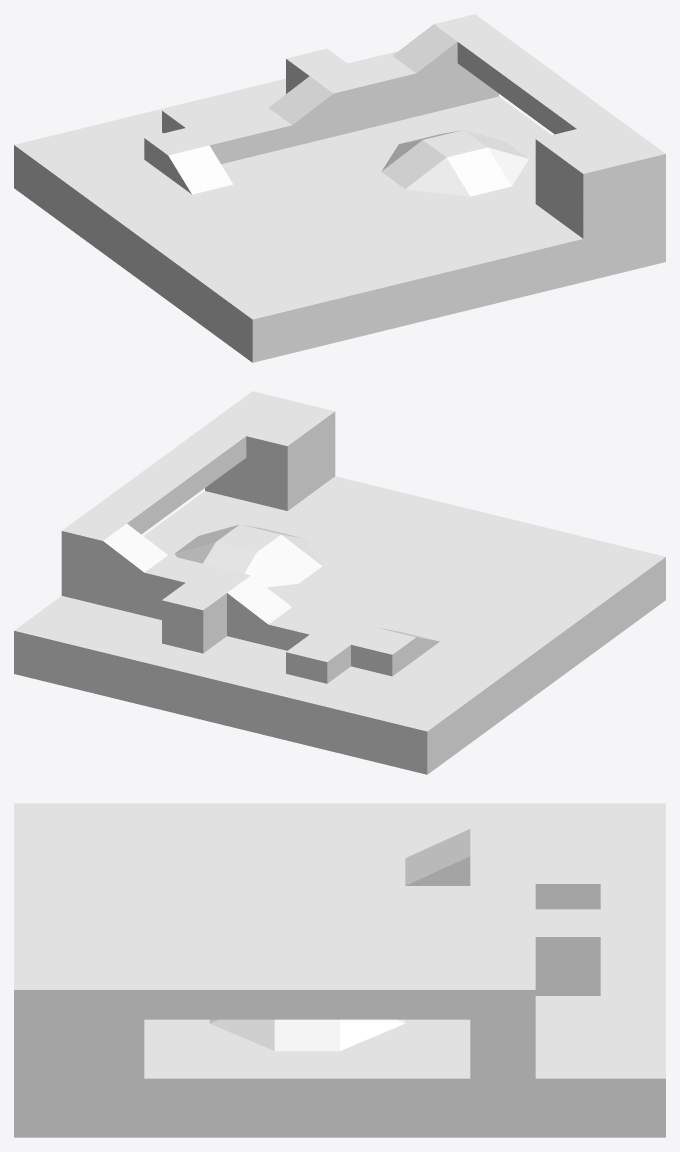
File: debug_map00.fbx
The picture shows the model from 3 angles, top to bottom: view 1: azimuth 30°, elevation 25°; view 2: azimuth 150°, elevation 25°; view 3: azimuth 270°, elevation 25°; orthographic projection. The views are drawn at different scales.
Visible parts, largest first — view 1: Cube; view 2: Cube; view 3: Cube.
Part boxes in pixels (x1,y1,x2,y2): Cube: (14, 14, 665, 362); Cube: (14, 391, 665, 774); Cube: (14, 803, 665, 1137).
Bounding box in the file's own units: 1000 × 250 × 1000.
